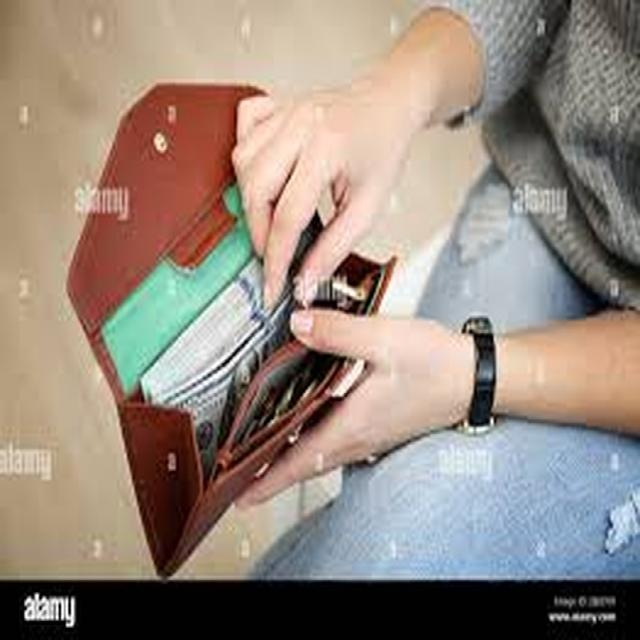wallet: (96, 80, 398, 570)
